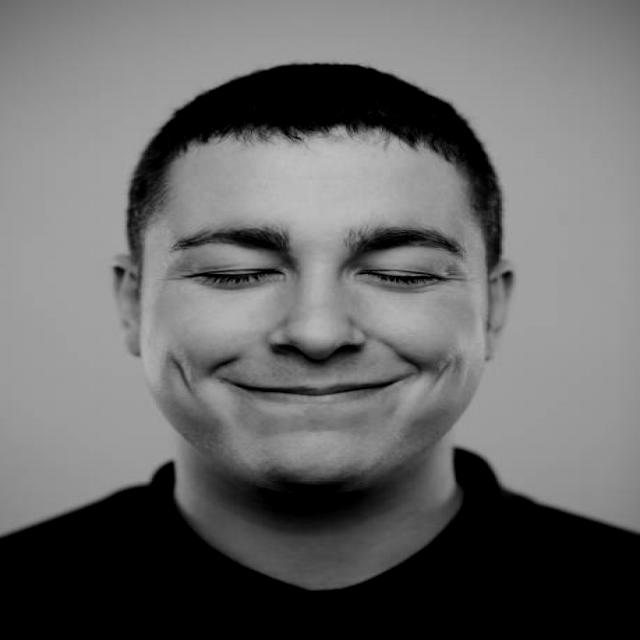real: (108, 61, 515, 500), (162, 218, 480, 302)
